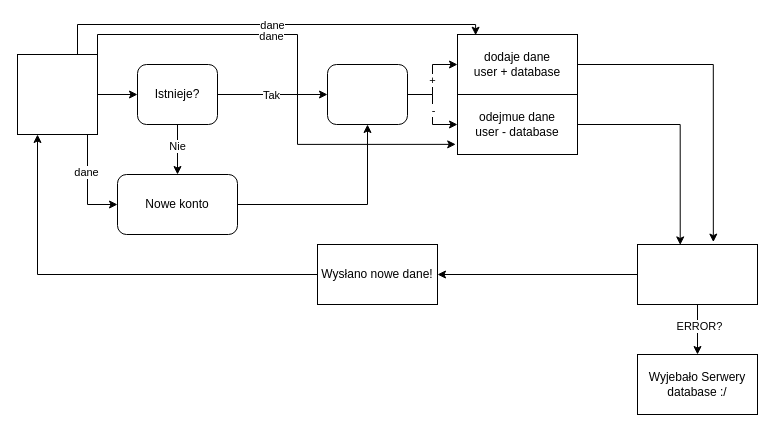
Image size: 775x432. Some labels were removed from this diagram. Here are the shapes that lost their labels. From the top down, the centre of each, then its label:
At pixel 57 94: "User".
At pixel 367 94: "pobiera dane z database".
At pixel 697 274: "wysyła przetworzone dane do database".
